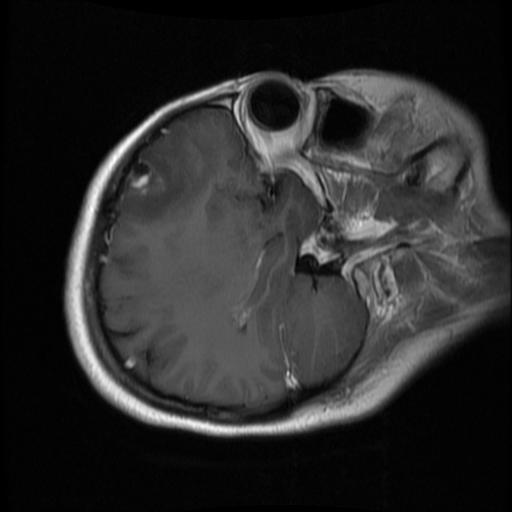glioma: (120, 145, 188, 220)
